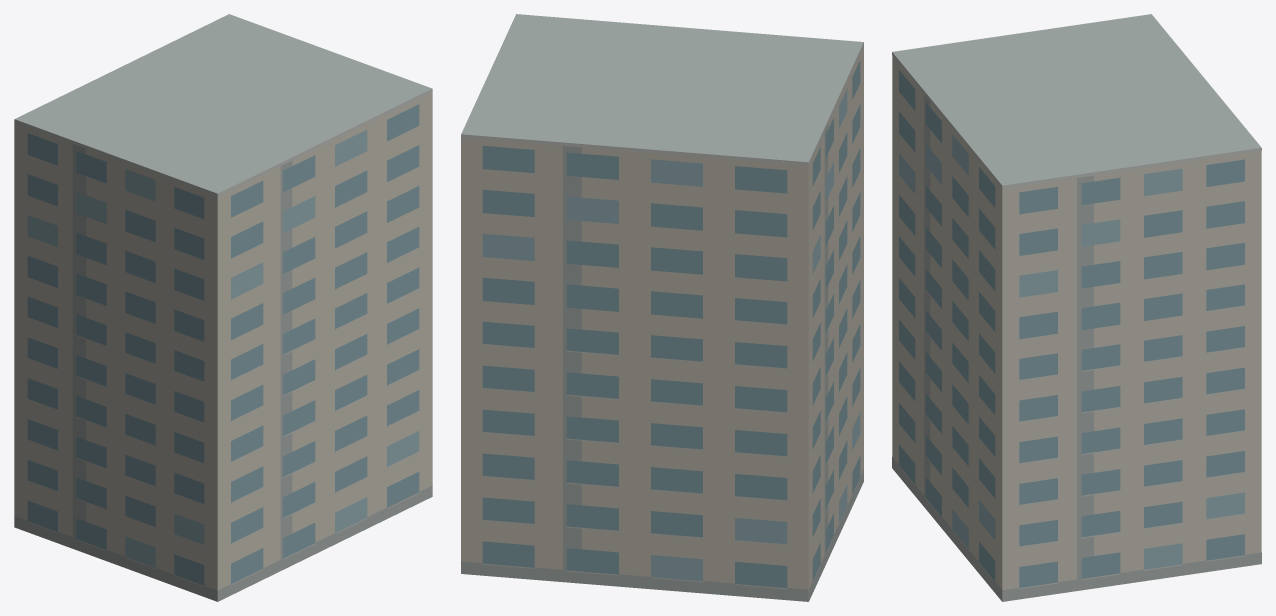
File: survey-upis-32694909.glb
3 views of the same model, side by side, from view 1: azimuth 30°, elevation 25°; view 2: azimuth 150°, elevation 25°; view 3: azimuth 270°, elevation 25° (orthographic). The views are drawn at different scales.
Visible parts, largest first — view 1: survey-upis-32694909.tmp; view 2: survey-upis-32694909.tmp; view 3: survey-upis-32694909.tmp.
Boxes of the visible parts, left/top/right/bottom form: survey-upis-32694909.tmp: left=14, top=14, right=432, bottom=601; survey-upis-32694909.tmp: left=461, top=14, right=863, bottom=601; survey-upis-32694909.tmp: left=892, top=14, right=1261, bottom=601.
Bounding box in the file's own units: 26.98 × 30.5 × 24.56.
